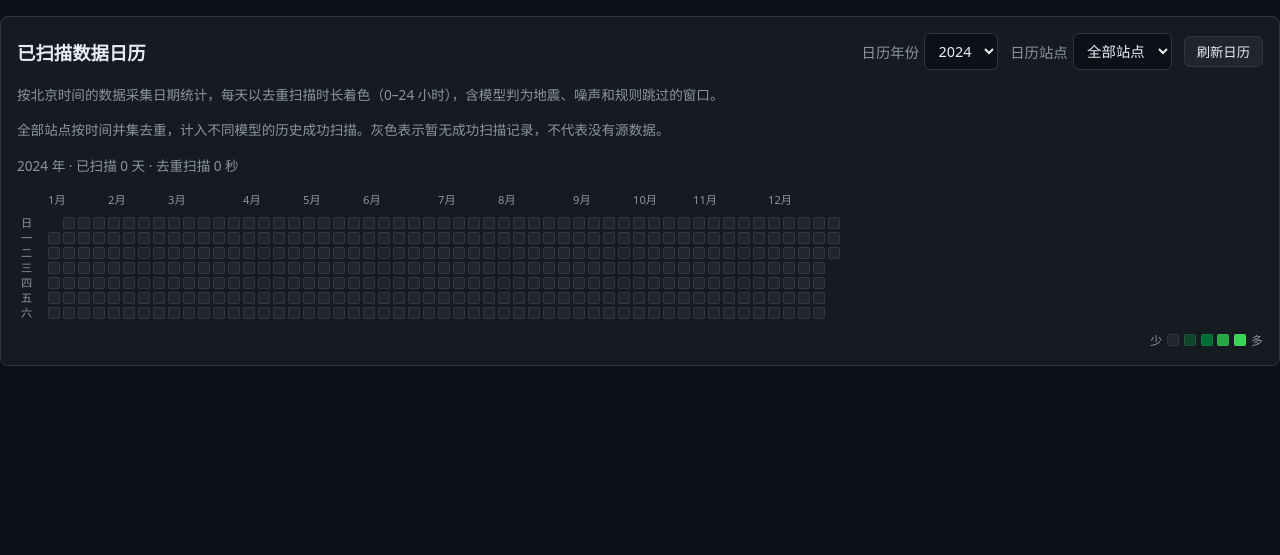
Test: retries a failed day detail and replaces the error with real coverage
Click the button named "2024-01-01".
click(54, 238)  # box left=48, top=232, right=60, bottom=244
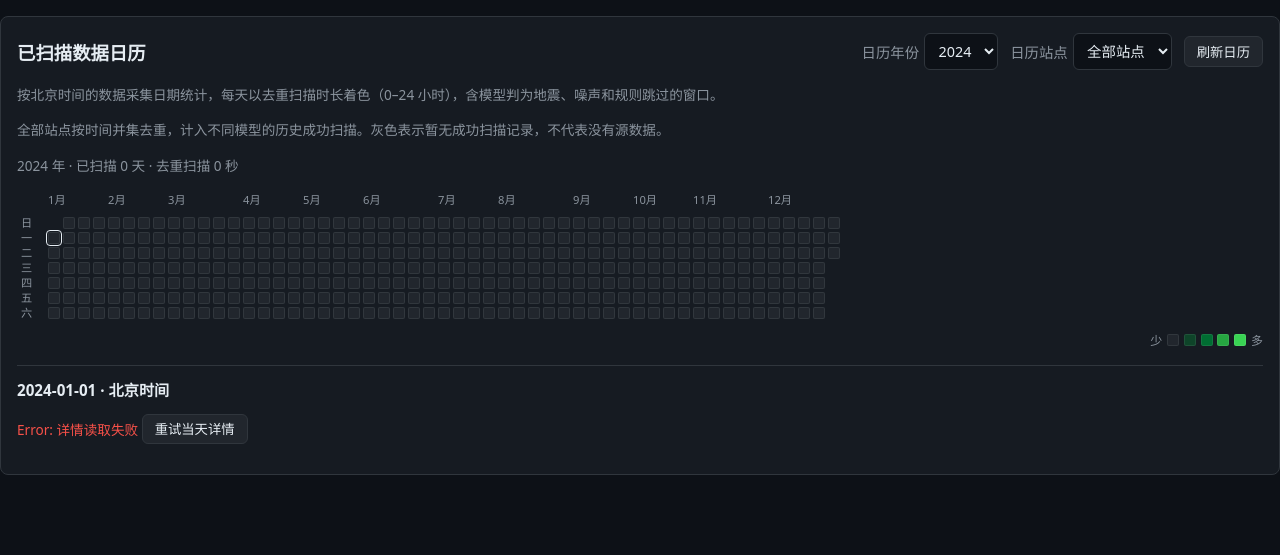
Expected: the message shows "详情读取失败", left=17, top=419, right=138, bottom=438
Click the button "重试当天详情".
click(195, 429)  # box left=142, top=414, right=248, bottom=444
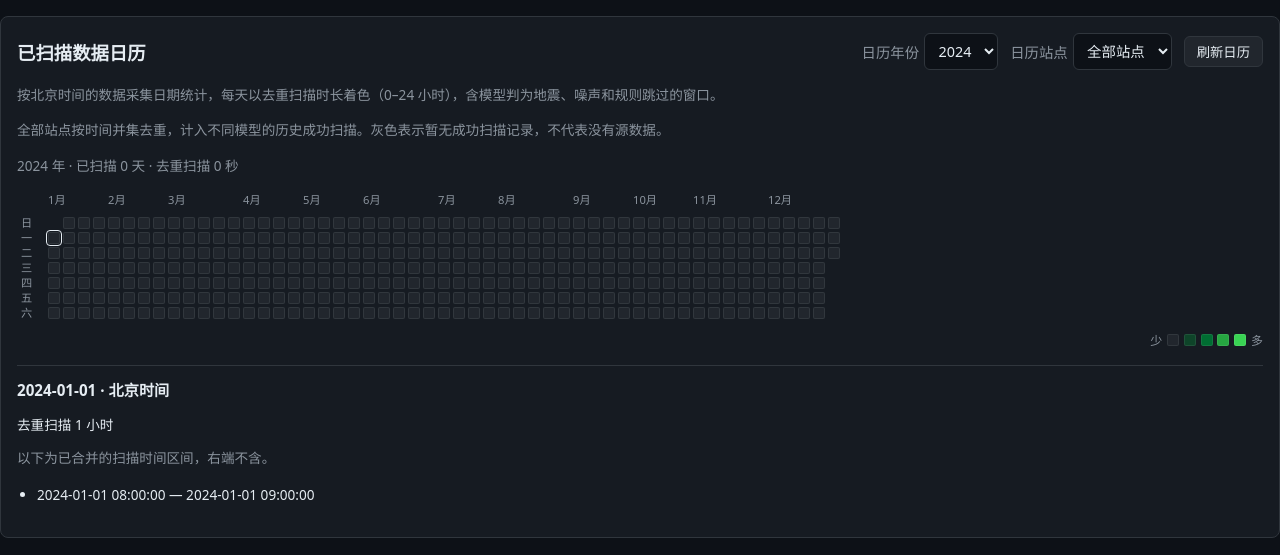
Expected: the text "2024-01-01 08:00:00" is shown, left=37, top=484, right=165, bottom=504
Expected: the message "Error: 详情读取失败 重试当天详情" is gone
